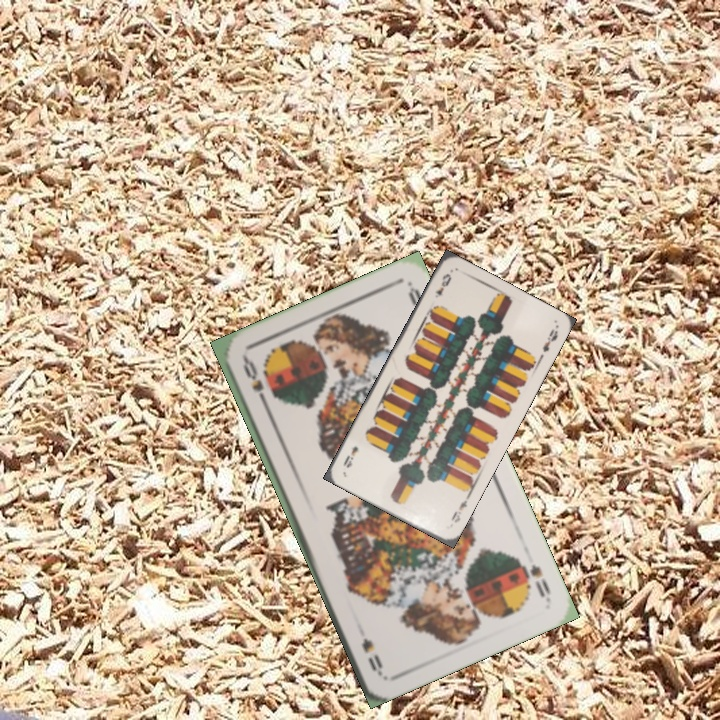E9: (447, 492, 472, 525), (431, 269, 454, 300)
SO: (239, 353, 271, 410), (519, 559, 554, 603)
